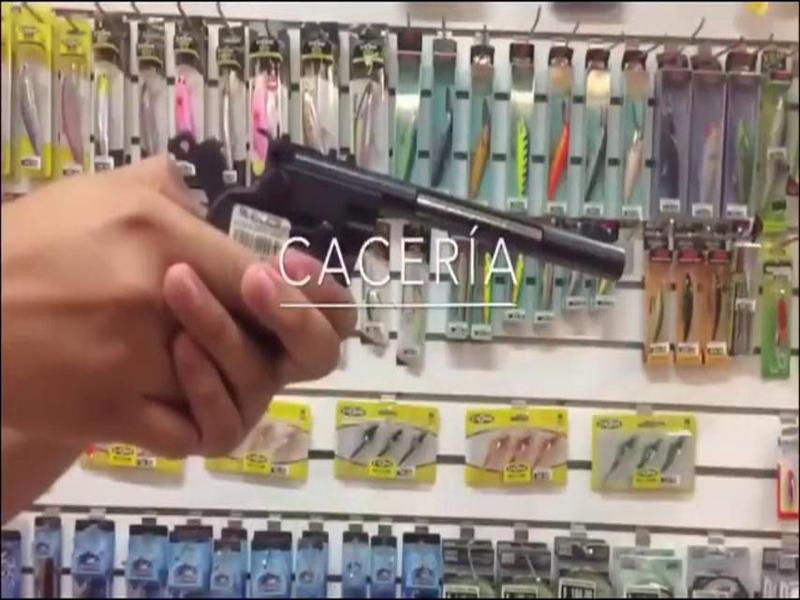Pistola: (187, 83, 677, 379)
